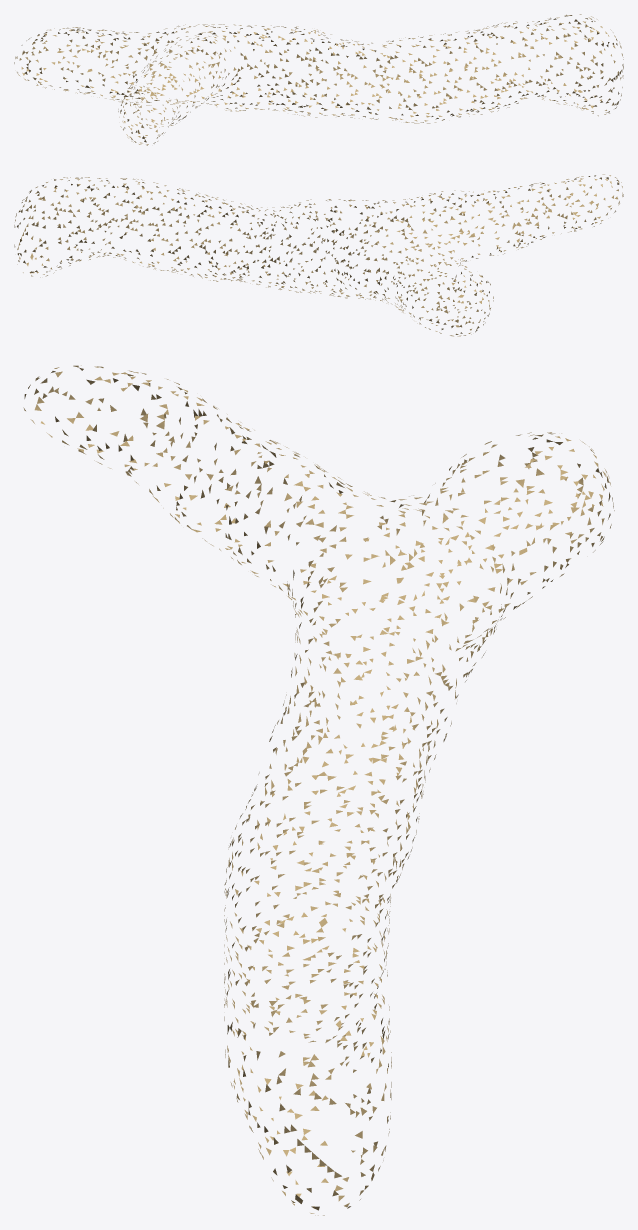
The model's file is morph_007.glb.
The picture shows the model from 3 angles, top to bottom: view 1: azimuth 30°, elevation 25°; view 2: azimuth 150°, elevation 25°; view 3: azimuth 270°, elevation 25°; orthographic projection. The views are drawn at different scales.
Size of the model in its own units: 107 by 34.34 by 51.37.
